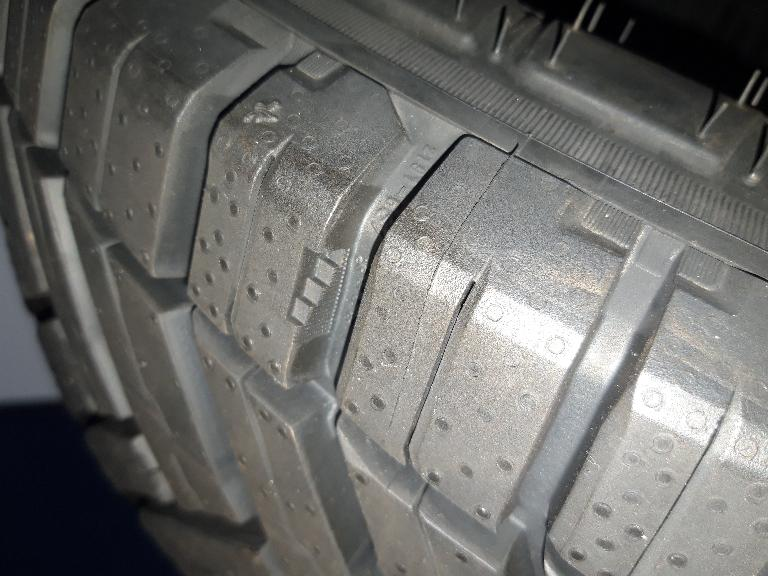temoin:100: (282, 245, 353, 345)
